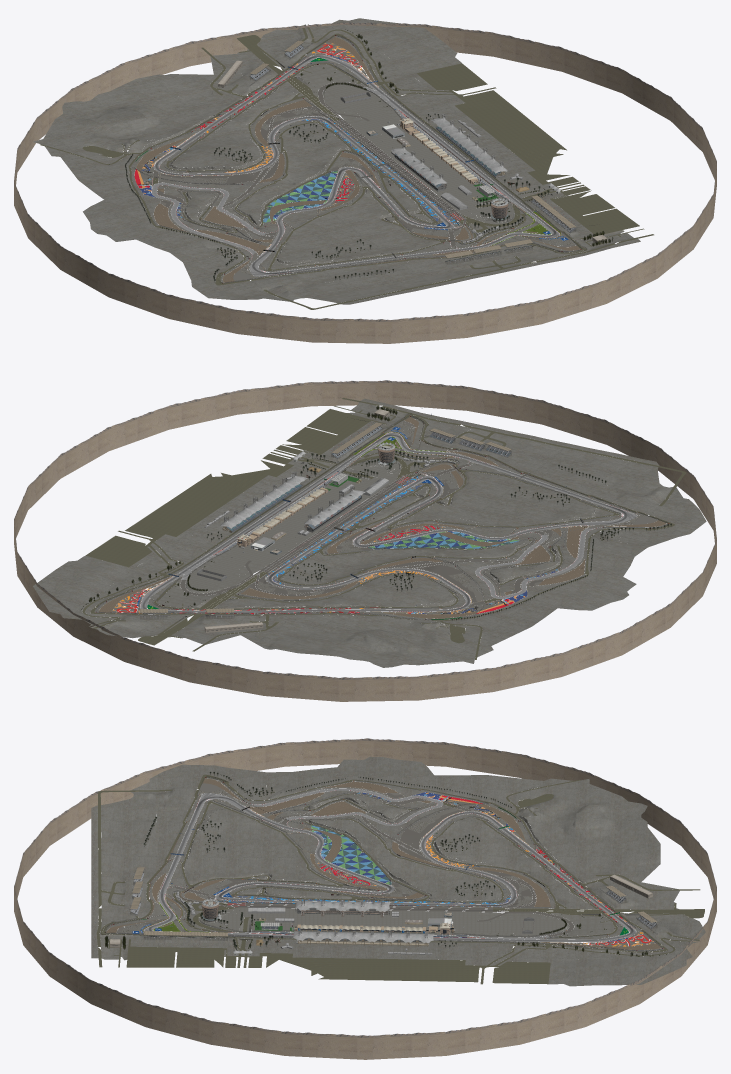
The model's file is SUP_bahrain_international_circuit.glb.
3 renders of one model, top to bottom at view 1: azimuth 30°, elevation 25°; view 2: azimuth 150°, elevation 25°; view 3: azimuth 270°, elevation 25°, orthographic.
Parts seen in each view (by area): view 1: SUP_bahrain_international_circuit; view 2: SUP_bahrain_international_circuit; view 3: SUP_bahrain_international_circuit.
Part boxes in pixels (x1,y1,x2,y2): SUP_bahrain_international_circuit: (14,18,716,343); SUP_bahrain_international_circuit: (14,380,716,701); SUP_bahrain_international_circuit: (14,738,716,1059).
Size of the model in its own units: 1739 by 155 by 1739.
100 materials, 99 textured.
